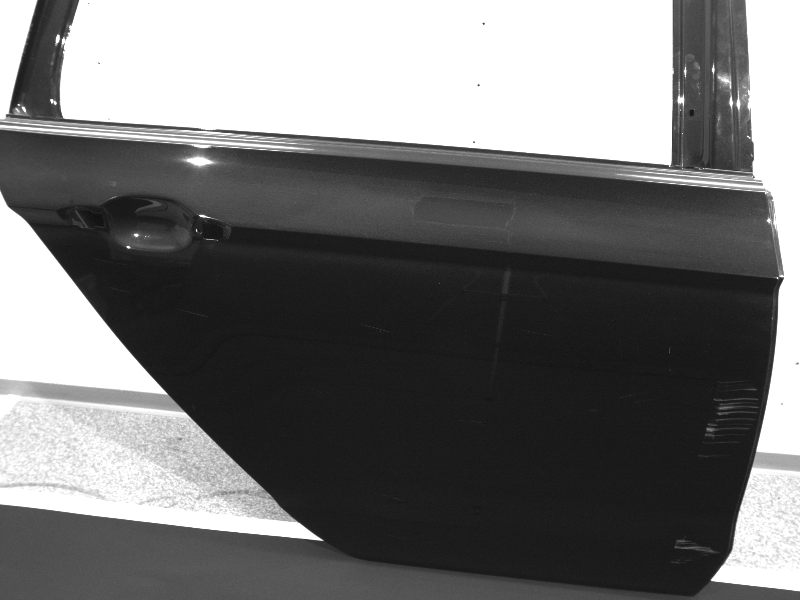scratch: (697, 379, 760, 459), (670, 537, 721, 565), (617, 392, 657, 404), (359, 322, 392, 334), (373, 491, 405, 503), (95, 257, 128, 267), (518, 328, 553, 337), (178, 309, 210, 318), (104, 286, 133, 295), (455, 419, 485, 425), (667, 347, 673, 355)
